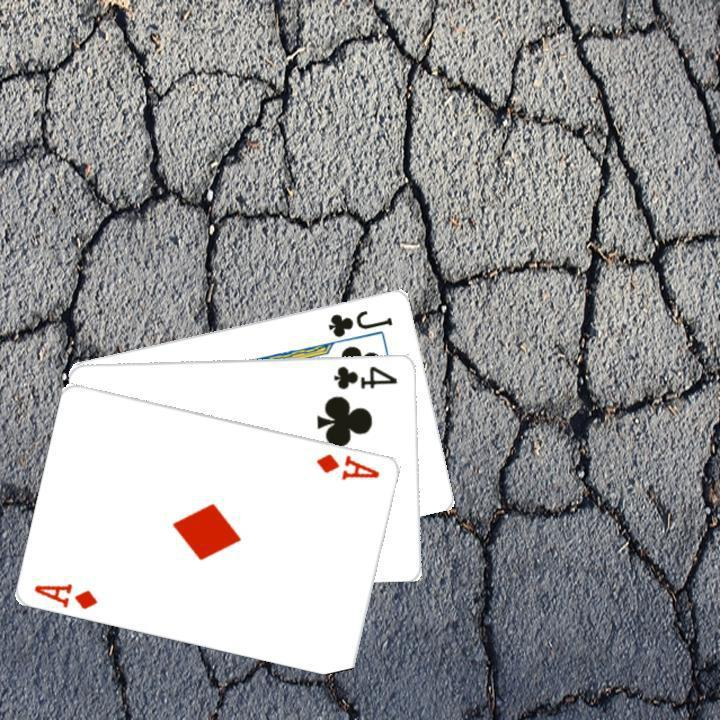4: (330, 361, 400, 391)
A: (312, 449, 382, 482), (30, 578, 100, 611)
J: (324, 305, 395, 339)
